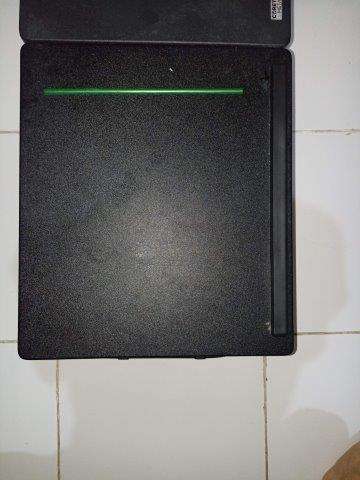sedotan: (44, 88, 243, 95)
